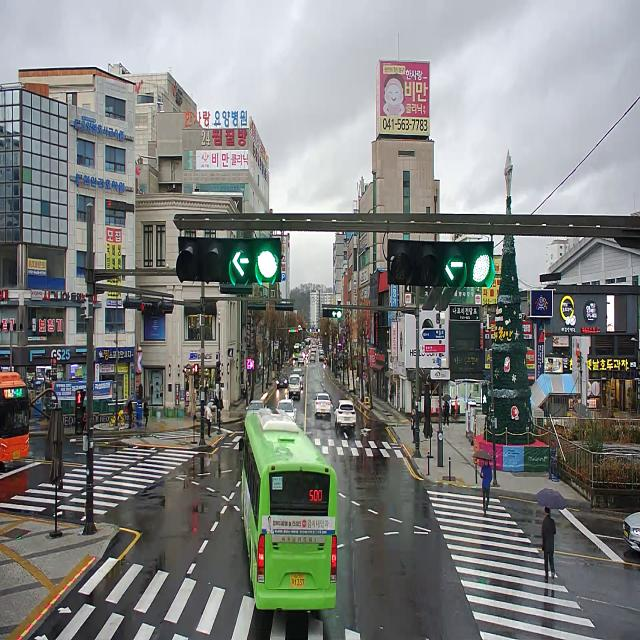Bus: (238, 409, 337, 609), (0, 371, 29, 461), (294, 344, 302, 358)
Car: (623, 511, 640, 552), (335, 400, 356, 427), (278, 399, 296, 423), (315, 393, 331, 414), (245, 401, 267, 416), (288, 374, 300, 399), (293, 368, 304, 390), (277, 373, 288, 388), (298, 356, 304, 364), (319, 353, 325, 360), (310, 354, 315, 362), (319, 350, 324, 354)
